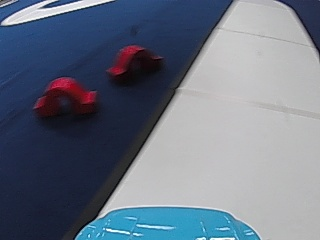bridge: (31, 74, 100, 119), (102, 42, 161, 86)
